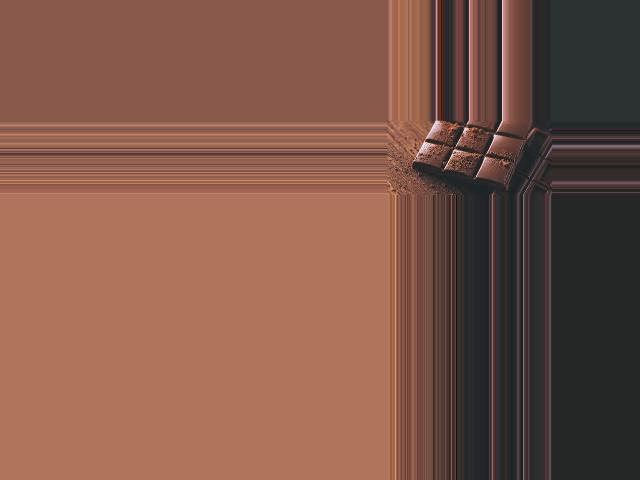chocolate: (407, 121, 533, 188)
